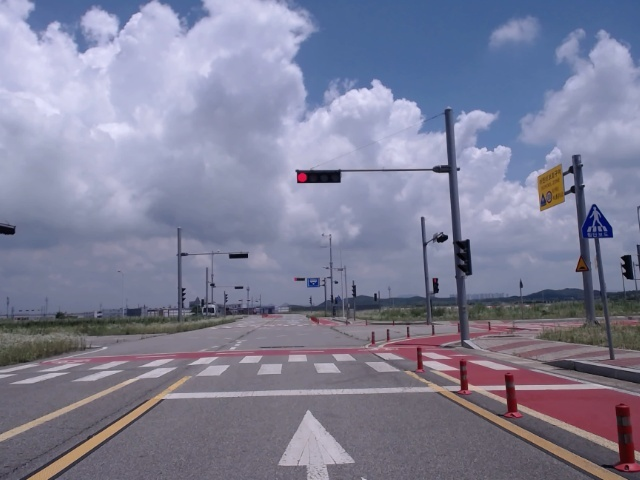red_4: (296, 170, 341, 184)
